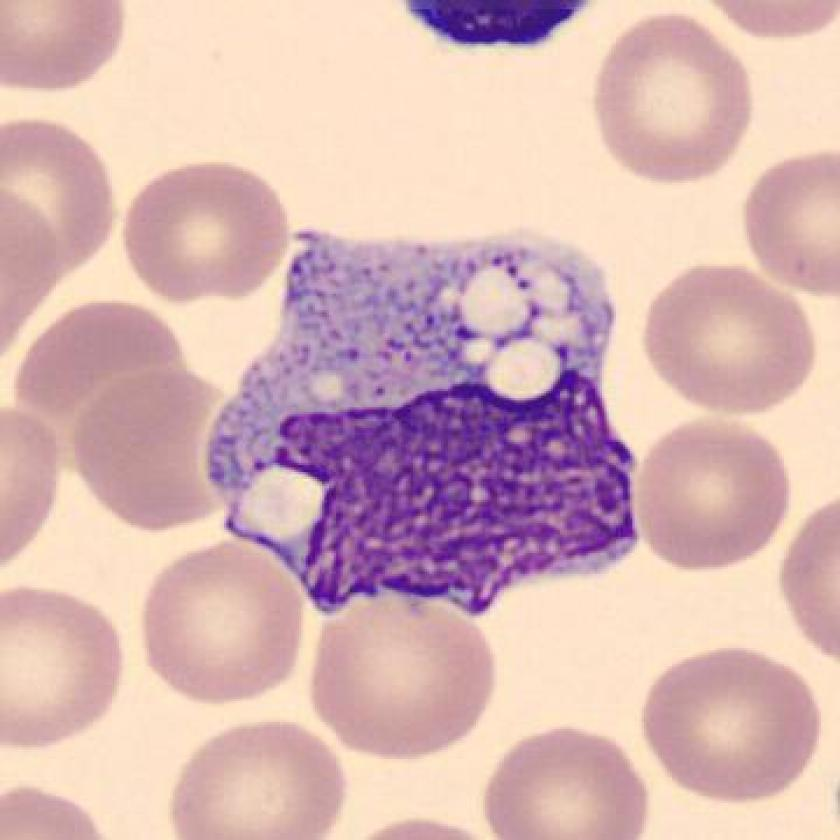monocyte: (188, 202, 668, 642)
